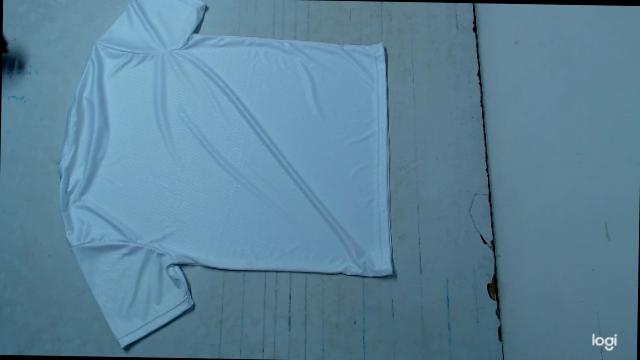new-garment: (58, 0, 392, 347)
